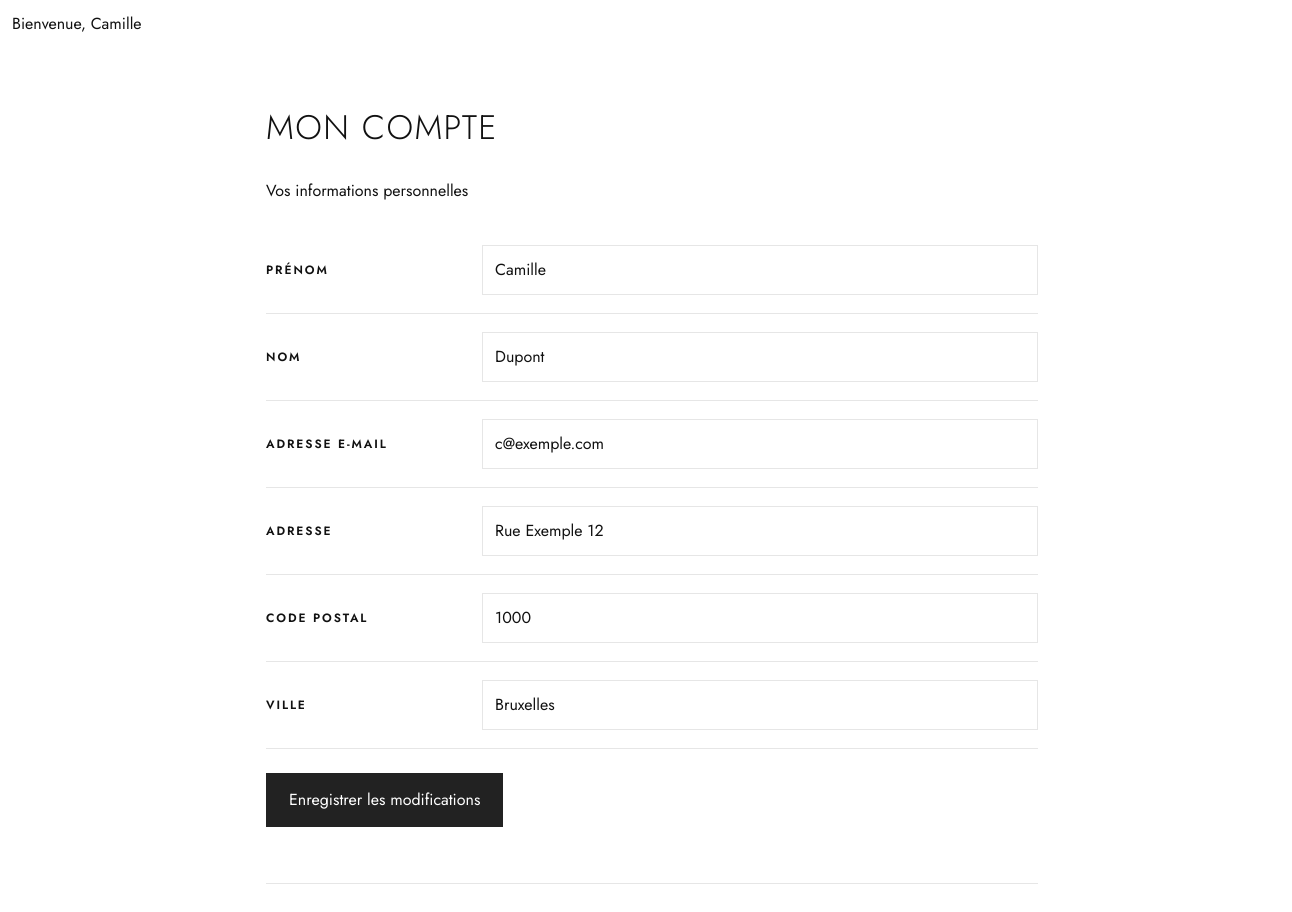
Test: US6 › après un refus 400 sur « firstName », place le focus sur « Prénom »
Check: the field showing "Bruxelles" is shown, box [482,680,1038,730]
Click the button "Enregistrer les modifications". click: (385, 800)
box: [266,773,503,827]
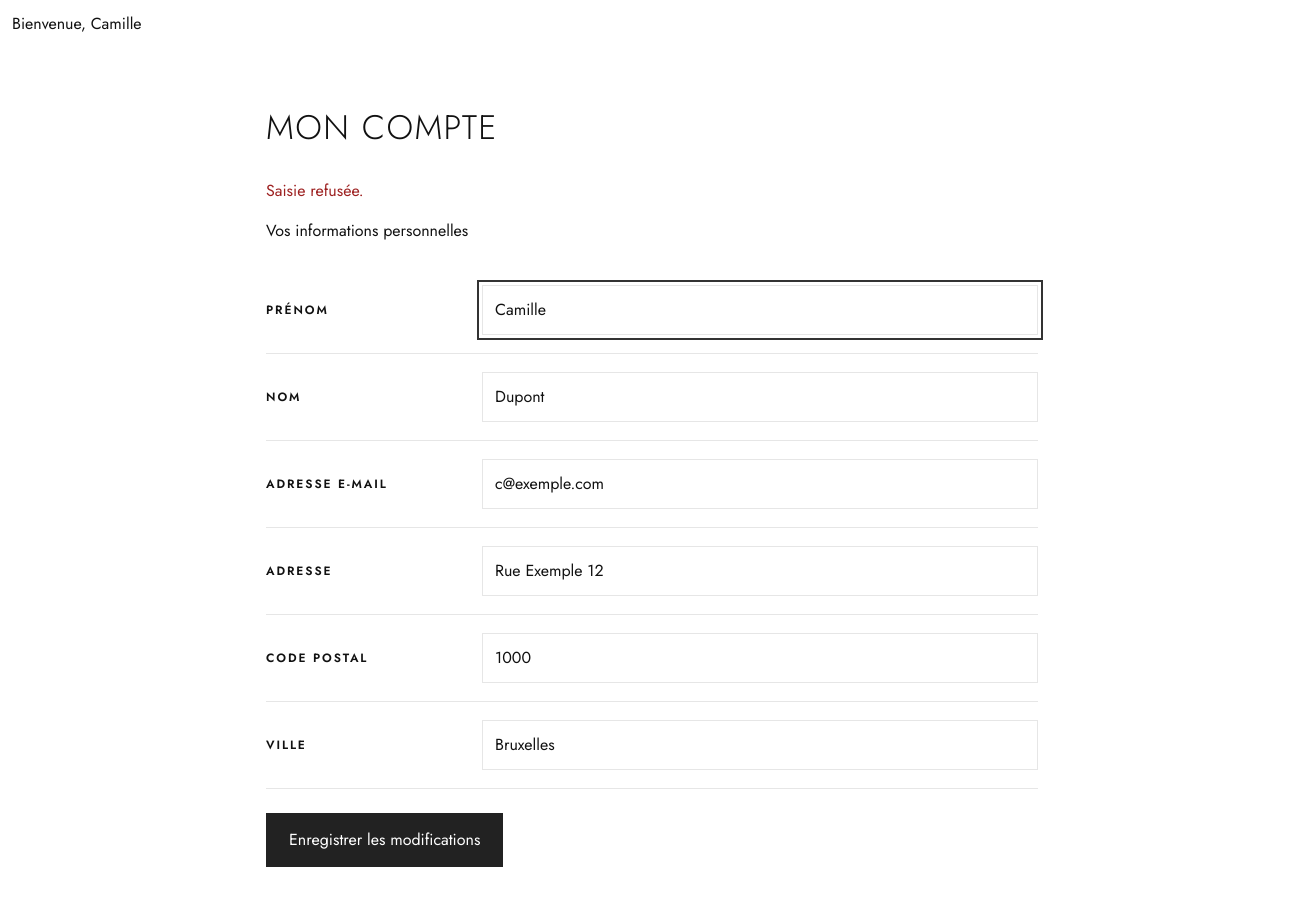
Check: the message reads "Saisie refusée.", box [266,179,364,202]
